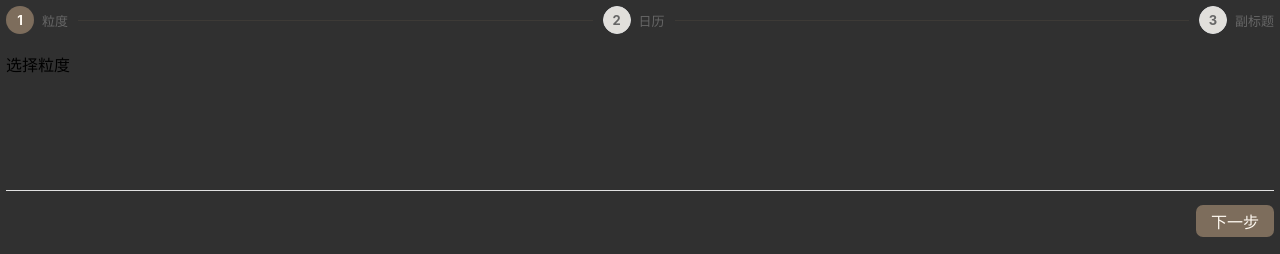
Scenario: AppStepper › renders active step content and moves forward and backward
Expected: the text "选择粒度" is shown, [6,55,70,75]
Click the button with class "app-stepper__button--primary".
click(1235, 221)  # box [1196,205,1274,237]
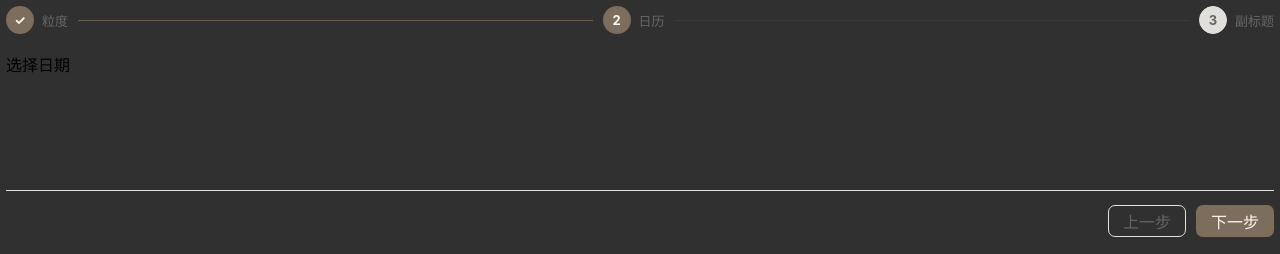
Expected: the text "选择日期" is shown, [6,55,70,75]
Click the button with class "app-stepper__button--ghost".
click(1147, 221)  # box [1108,205,1186,237]
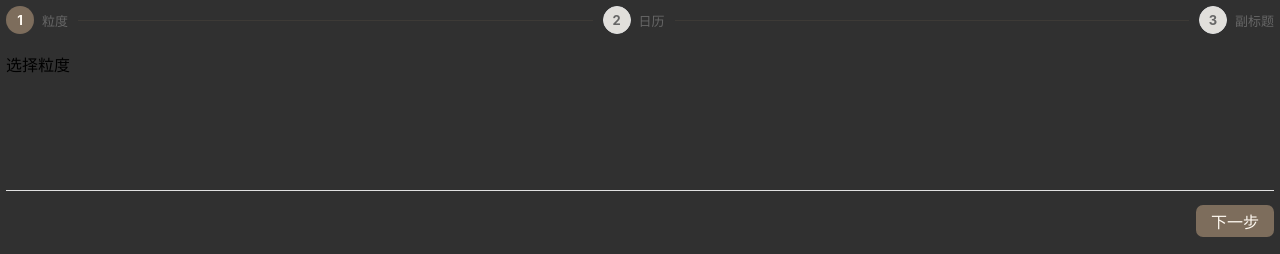
Expected: the text "选择粒度" is shown, [6,55,70,75]
